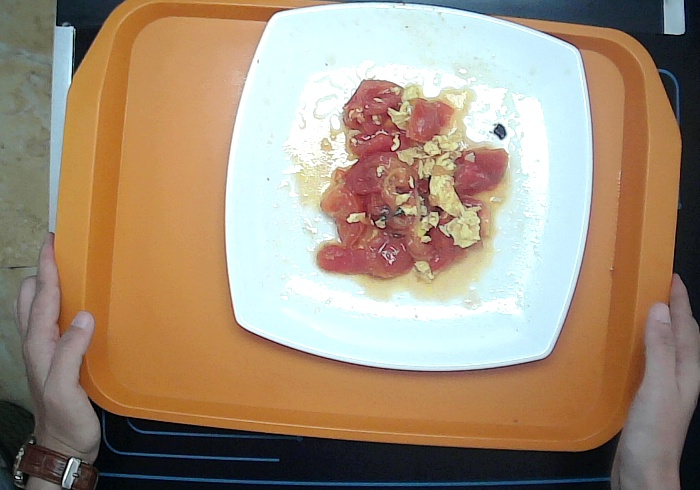ZNLD-Bai_Fang_Pan: (223, 5, 595, 380)
